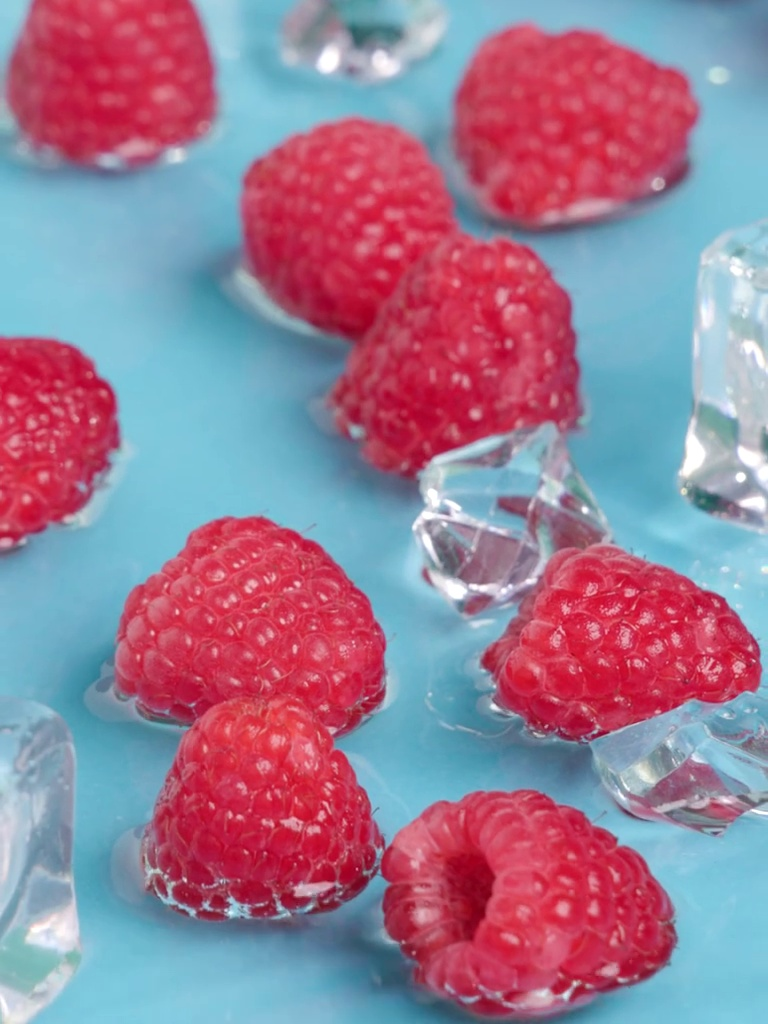Strawberry: (370, 785, 675, 1016), (337, 236, 591, 485), (109, 512, 388, 732), (467, 535, 763, 733), (123, 702, 381, 928), (451, 23, 700, 226)
